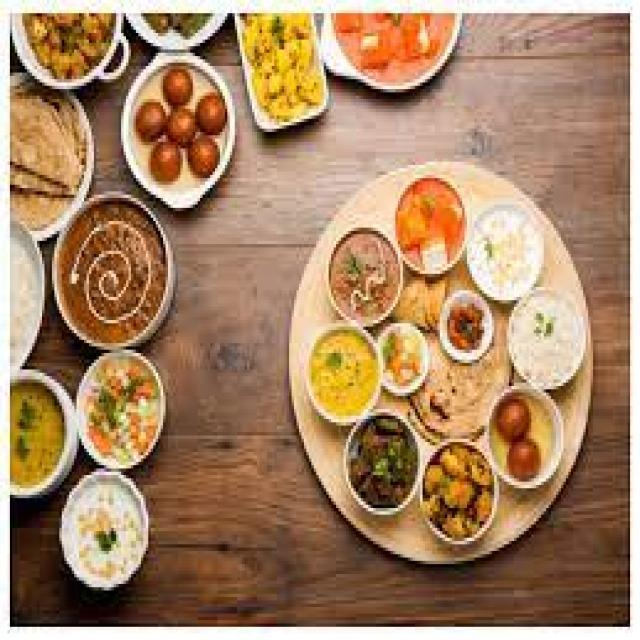curd: (504, 280, 592, 392)
dal: (300, 323, 386, 422)
papad: (11, 85, 93, 230), (6, 221, 50, 375), (389, 266, 468, 335)
raita: (59, 473, 151, 583), (503, 283, 593, 391), (464, 203, 551, 302), (9, 381, 74, 488)
rice: (13, 8, 126, 83)
roti: (403, 346, 503, 450)
sambar-rasam: (319, 8, 461, 95)
sweet: (130, 53, 233, 193), (482, 381, 564, 483), (12, 379, 77, 495), (392, 180, 473, 272)
veg-fry: (59, 209, 168, 347)
